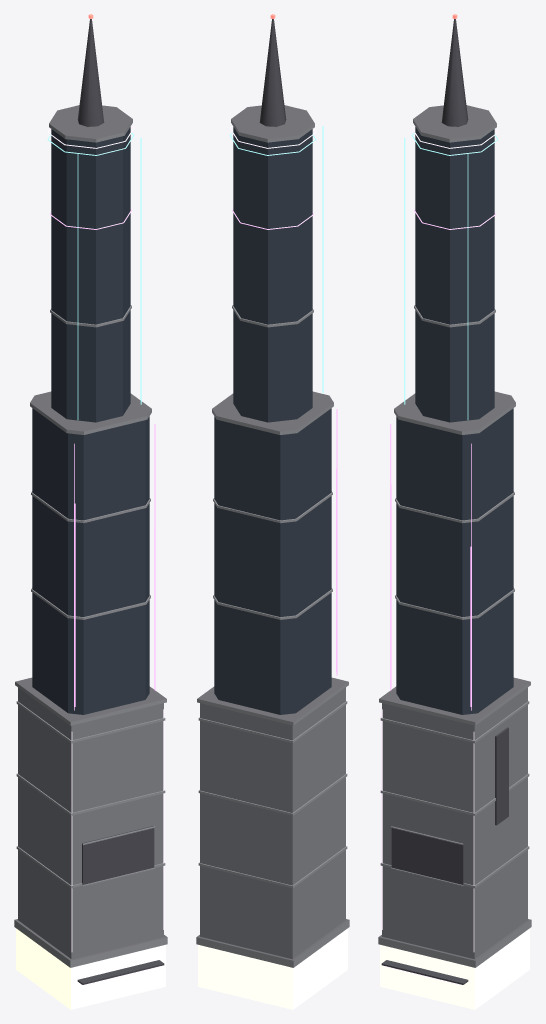
The model's file is s14_mega.glb.
3 views of the same model, side by side, from view 1: azimuth 30°, elevation 25°; view 2: azimuth 150°, elevation 25°; view 3: azimuth 330°, elevation 25° (orthographic).
Parts seen in each view (by area): view 1: s14_mega; view 2: s14_mega; view 3: s14_mega.
Boxes of the visible parts, bbox=[...] form: s14_mega: bbox=[14, 14, 167, 1009]; s14_mega: bbox=[196, 14, 349, 1009]; s14_mega: bbox=[378, 14, 531, 1009].
Bounding box in the file's own units: 14.3 × 135 × 15.49.
